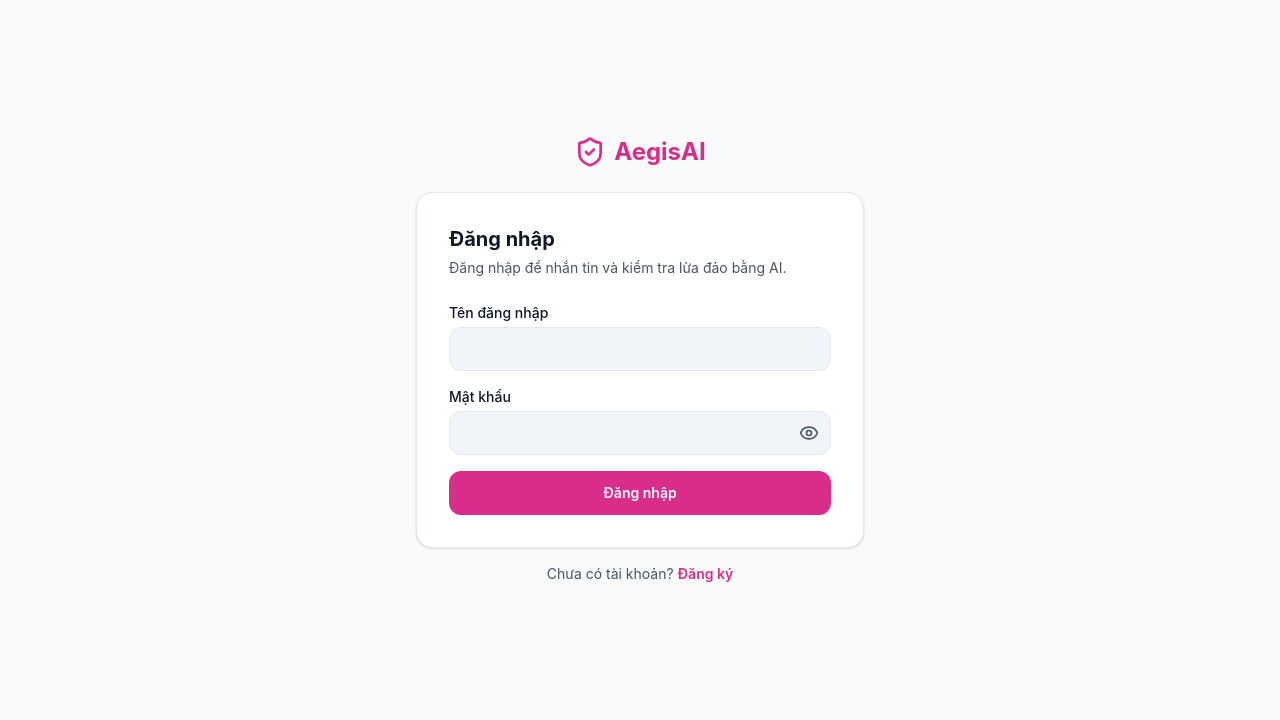
Test: Trang đăng nhập › admin đăng nhập xong vào được /admin
This screenshot has width=1280, height=720.
Expected: the heading "Đăng nhập" is shown, top-left (449, 227), bottom-right (555, 251)
Type "admin" into the field labelled "Tên đăng nhập".
click(640, 349); type("admin")  # box top-left (449, 327), bottom-right (831, 371)
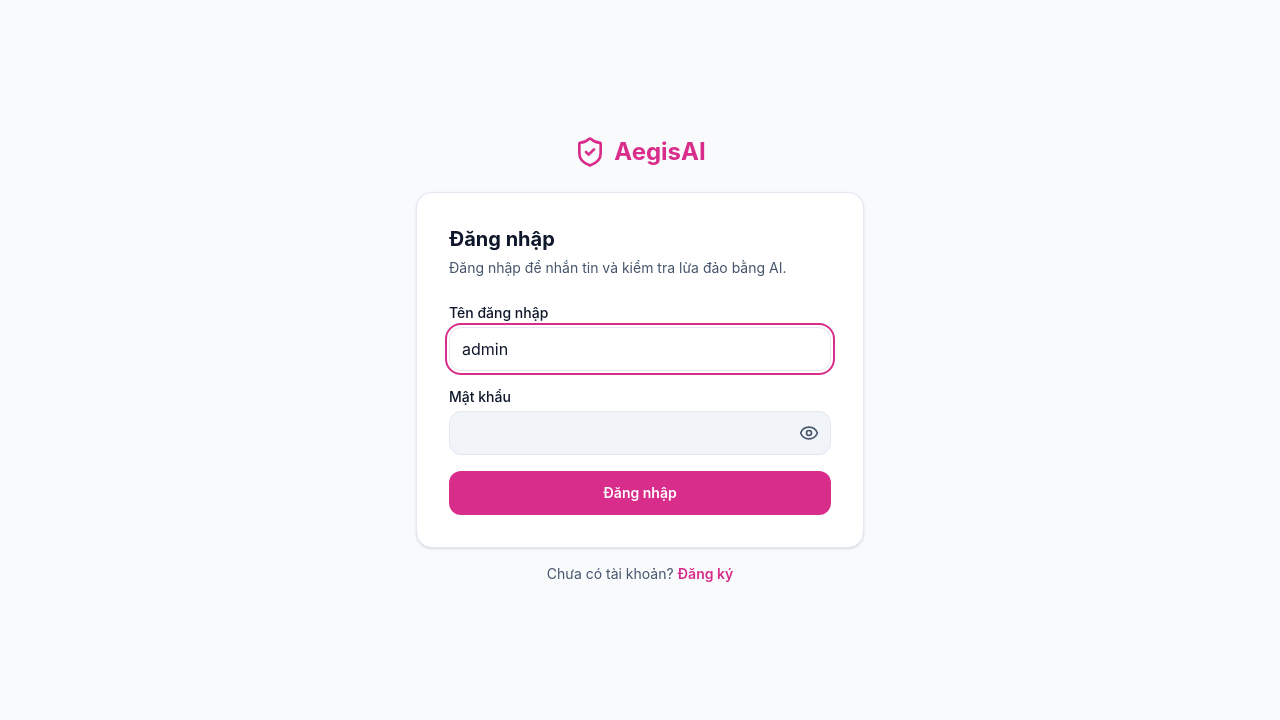
Type "123456" into the password field labelled "Mật khẩu".
click(640, 433); type("123456")  # box top-left (449, 411), bottom-right (831, 455)
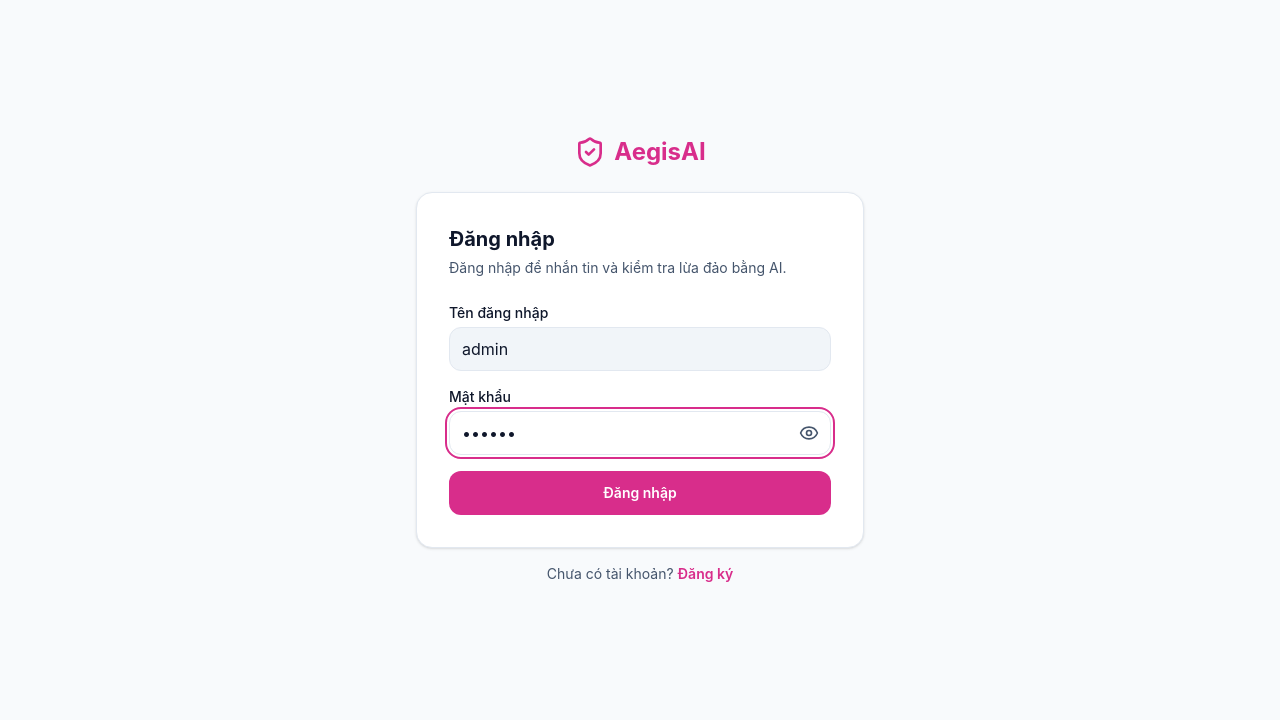
Click the button "Đăng nhập".
click(640, 493)  # box top-left (449, 471), bottom-right (831, 515)
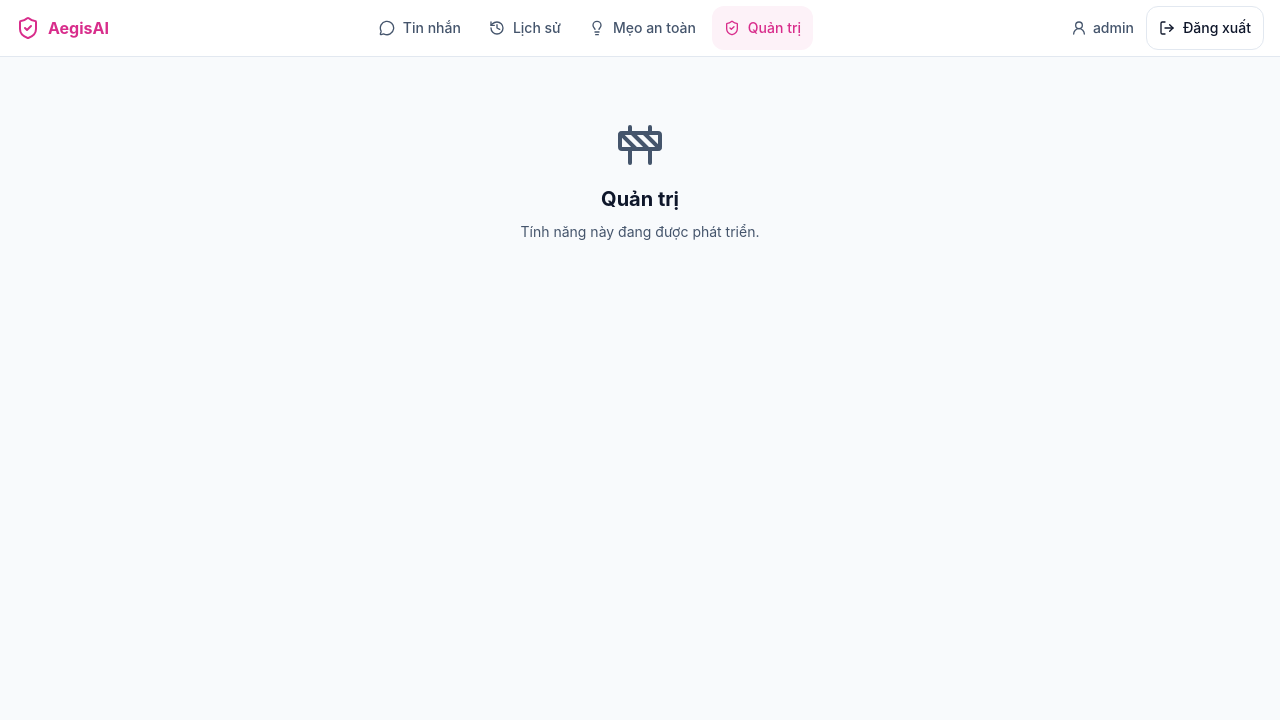
Expected: the heading "Quản trị" is shown, top-left (601, 185), bottom-right (679, 213)
